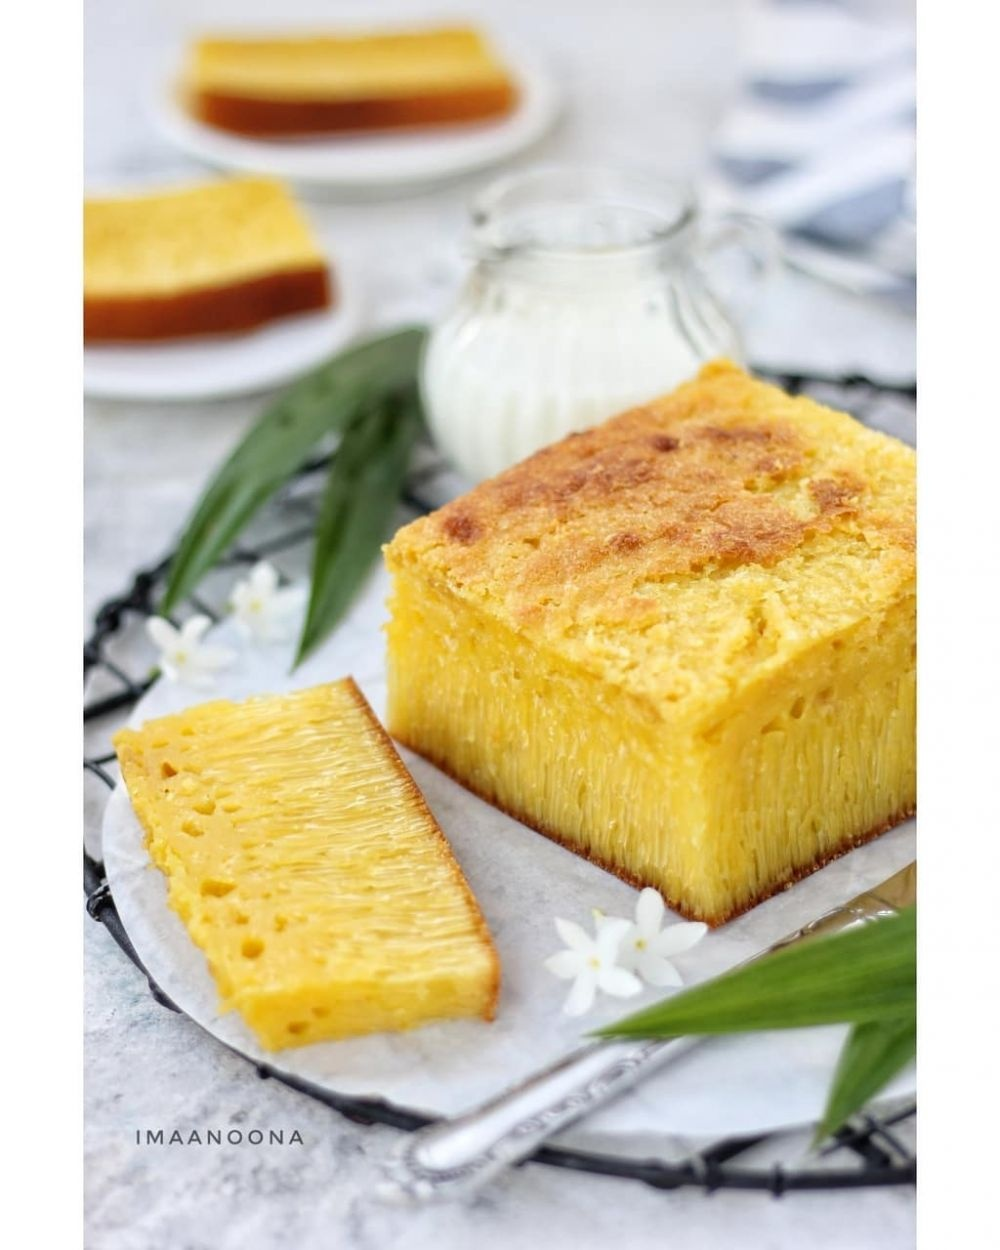bika_ambon: (334, 526, 751, 943), (94, 665, 511, 1045)
